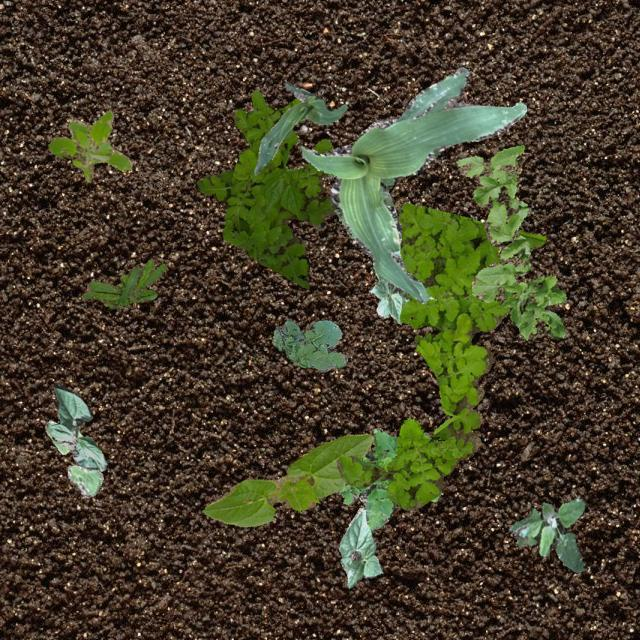crop: (300, 65, 526, 302), (202, 432, 372, 526), (252, 80, 346, 176), (48, 382, 106, 470), (44, 419, 102, 496), (338, 507, 382, 588), (368, 260, 408, 322)
weed: (336, 202, 544, 509), (194, 90, 334, 288), (454, 144, 566, 340), (338, 426, 439, 530), (48, 108, 130, 180), (508, 498, 584, 572), (80, 258, 166, 308), (272, 320, 346, 370), (414, 332, 432, 342)
